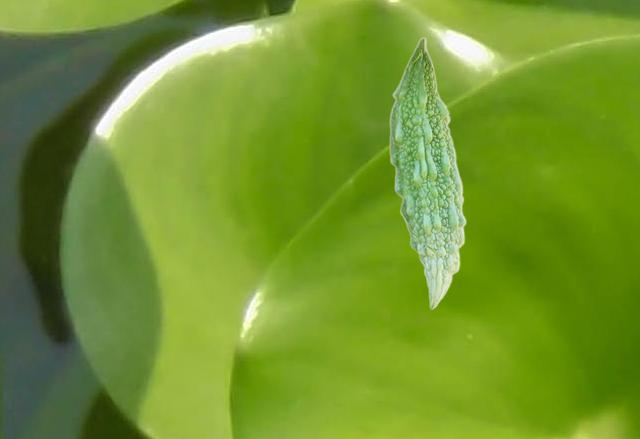ampalaya: (387, 36, 468, 310)
